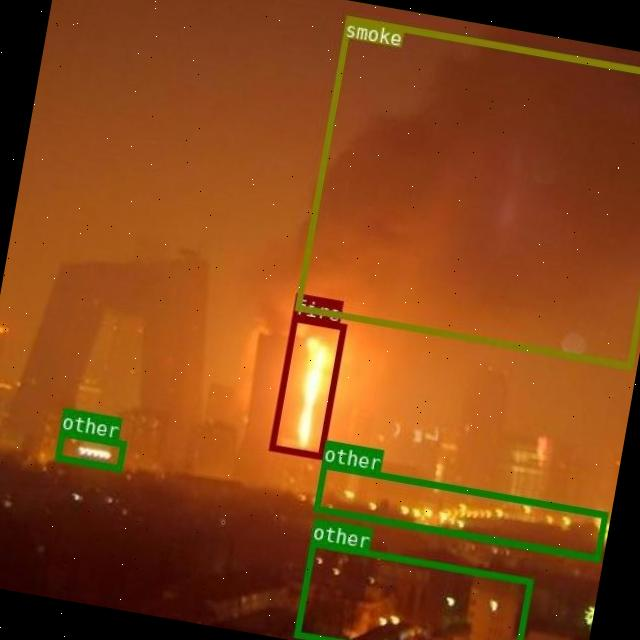fire: (267, 313, 345, 457)
smoke: (293, 13, 640, 367)
